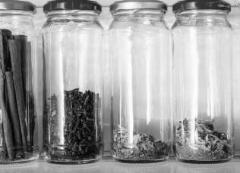glass: (0, 1, 240, 163)
